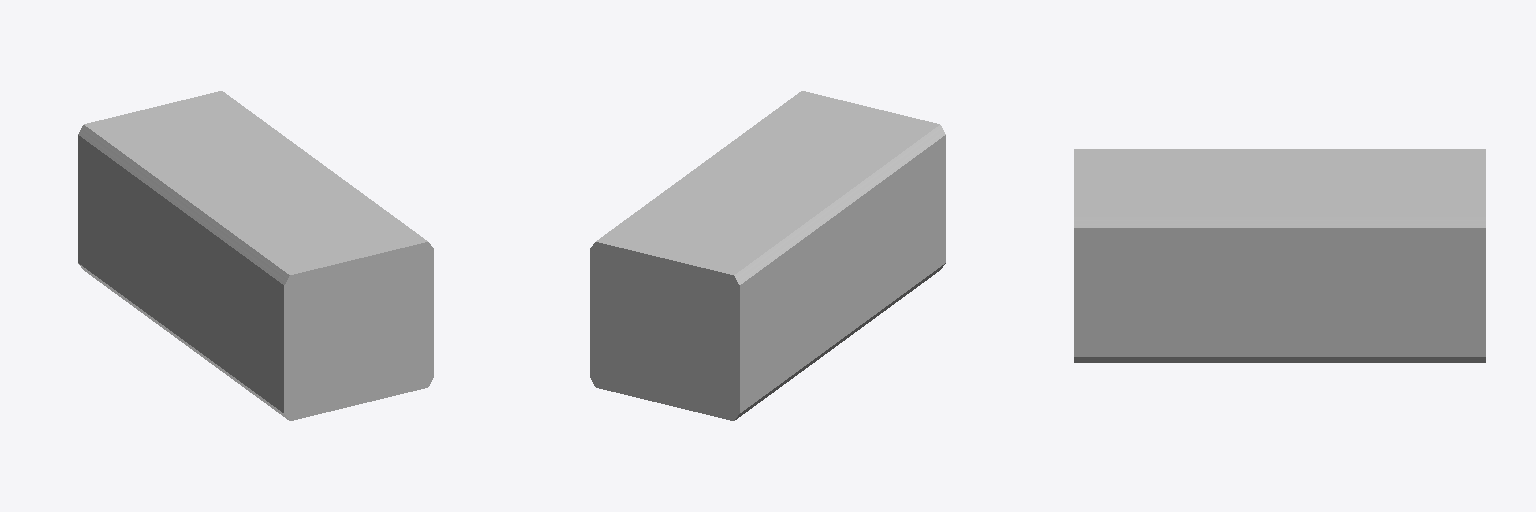
The model's file is factory_square_peg_32mm_loose_subdiv_3x.obj.
3 views of the same model, side by side, from view 1: azimuth 30°, elevation 25°; view 2: azimuth 150°, elevation 25°; view 3: azimuth 270°, elevation 25° (orthographic).
Visible parts, largest first — view 1: mesh0; view 2: mesh0; view 3: mesh0.
Part boxes in pixels (bbox=[...]): mesh0: bbox=[78, 91, 433, 420]; mesh0: bbox=[590, 91, 945, 420]; mesh0: bbox=[1074, 149, 1485, 362].
Size of the model in its own units: 0.0319 by 0.0297 by 0.0762.